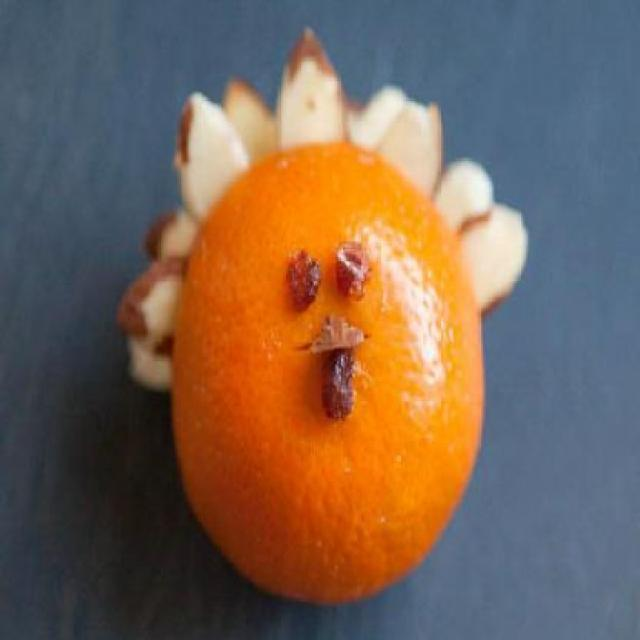Jeruk Sudah Matang: (170, 143, 486, 609)
